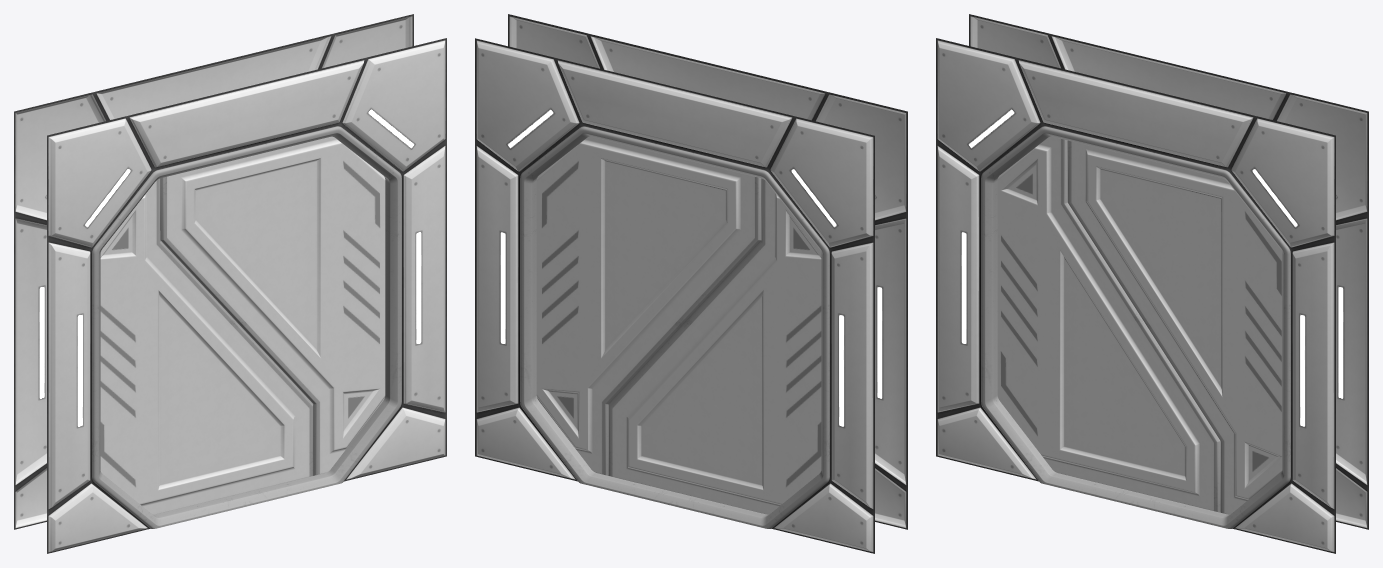
Rendered from MGate01-350x350-2.FBX.
3 renders of one model, left to right at view 1: azimuth 30°, elevation 25°; view 2: azimuth 150°, elevation 25°; view 3: azimuth 330°, elevation 25°, orthographic.
Parts seen in each view (by area): view 1: GateFrame, GateR, GateL; view 2: GateFrame, GateR, GateL; view 3: GateFrame, GateL, GateR.
Part boxes in pixels (left/top/right/bottom): GateFrame: left=14, top=14, right=446, bottom=553; GateR: left=160, top=136, right=385, bottom=475; GateL: left=100, top=178, right=313, bottom=514; GateFrame: left=475, top=14, right=907, bottom=553; GateR: left=536, top=137, right=761, bottom=475; GateL: left=608, top=178, right=821, bottom=514; GateFrame: left=936, top=14, right=1368, bottom=553; GateL: left=997, top=136, right=1220, bottom=512; GateR: left=1067, top=140, right=1282, bottom=514.
Size of what is drawn, in the model's own units: 3.5 by 3.5 by 0.58.
